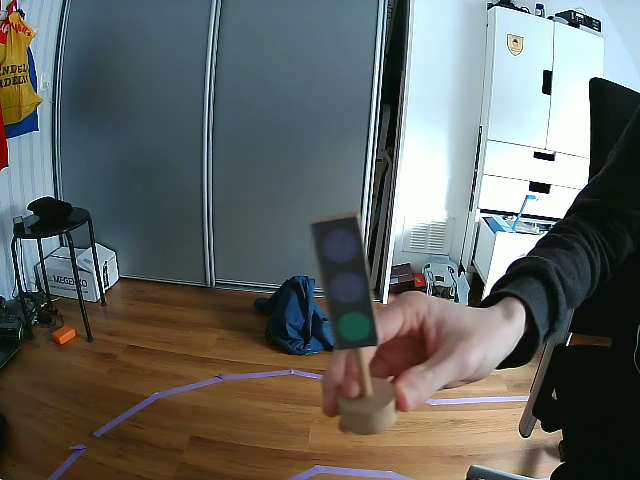groenlicht: (317, 215, 374, 347)
